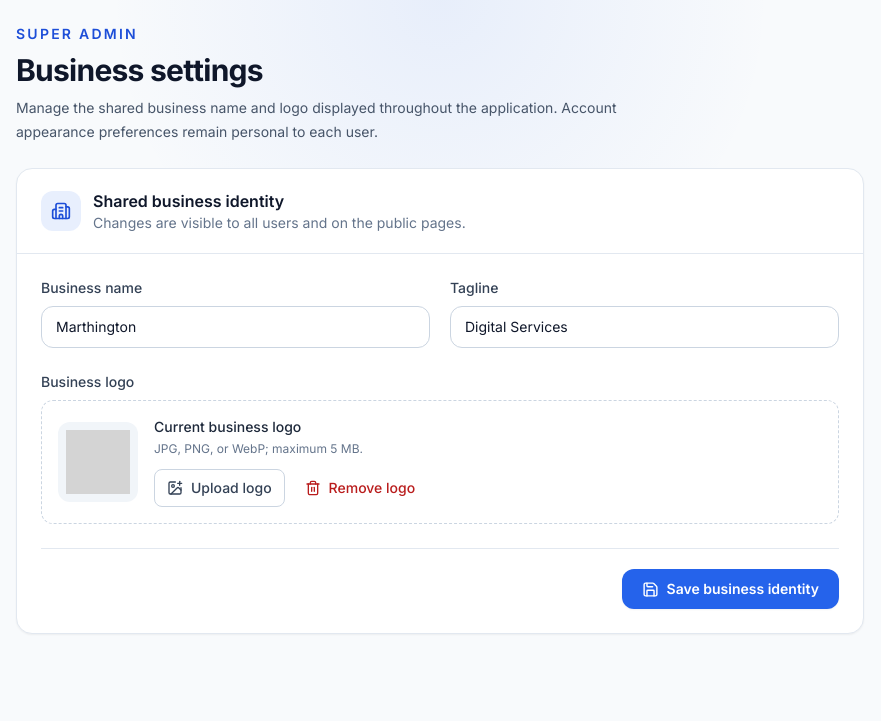
business branding settings › keeps current branding when the server rejects the update
The width and height of the screenshot is (881, 721).
Click the button "Save business identity". click: x=730, y=589
box: [622,569,839,609]
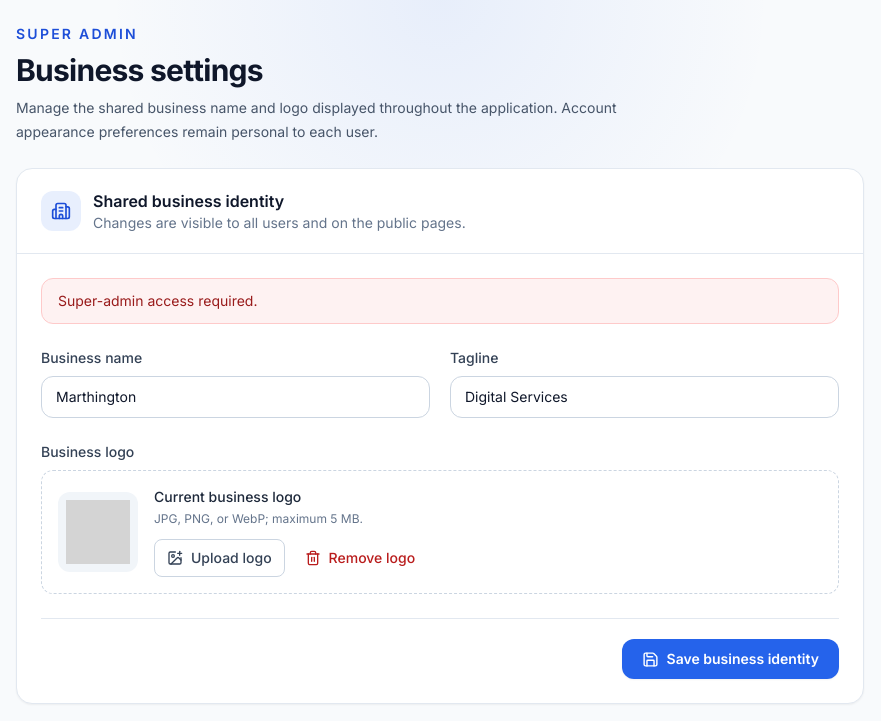
Expected: the message reads "Super-admin access required.", [58,292,257,309]
